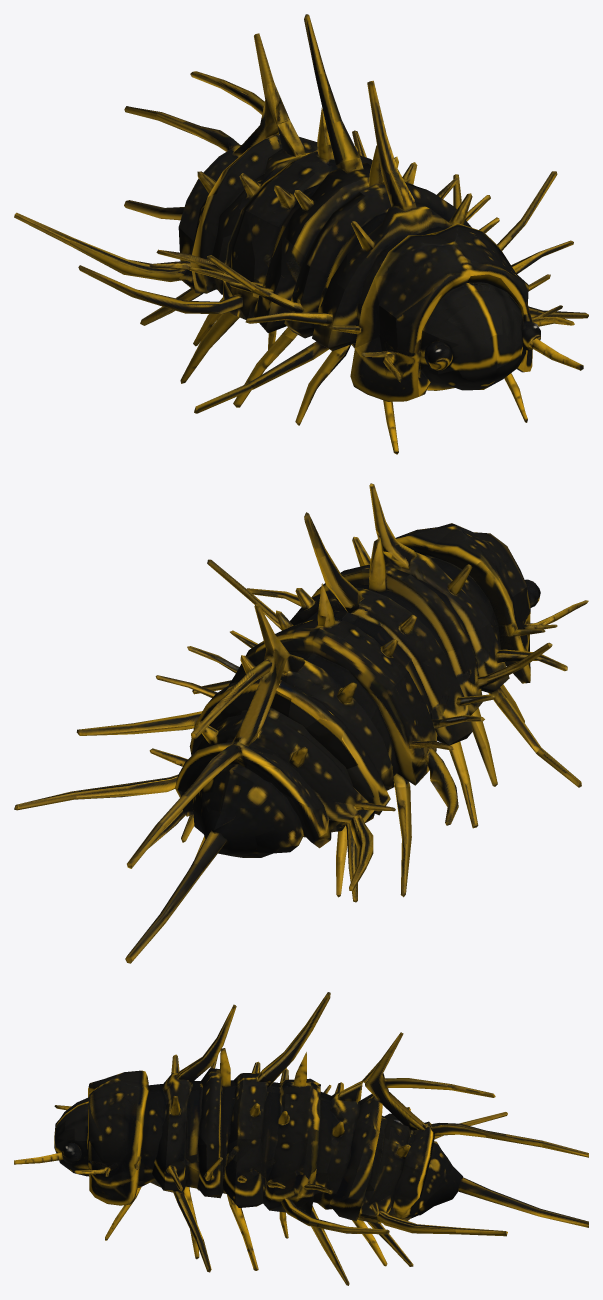
The model's file is CRT-013.glb.
3 renders of one model, top to bottom at view 1: azimuth 30°, elevation 25°; view 2: azimuth 150°, elevation 25°; view 3: azimuth 270°, elevation 25°, orthographic. The views are drawn at different scales.
Parts seen in each view (by area): view 1: mesh_node; view 2: mesh_node; view 3: mesh_node.
Part boxes in pixels (x1,y1,x2,y2): mesh_node: (14, 14, 588, 454); mesh_node: (14, 483, 588, 963); mesh_node: (14, 992, 588, 1285).
Bounding box in the file's own units: 0.5742 × 0.4893 × 1.
1 material, 1 textured.
